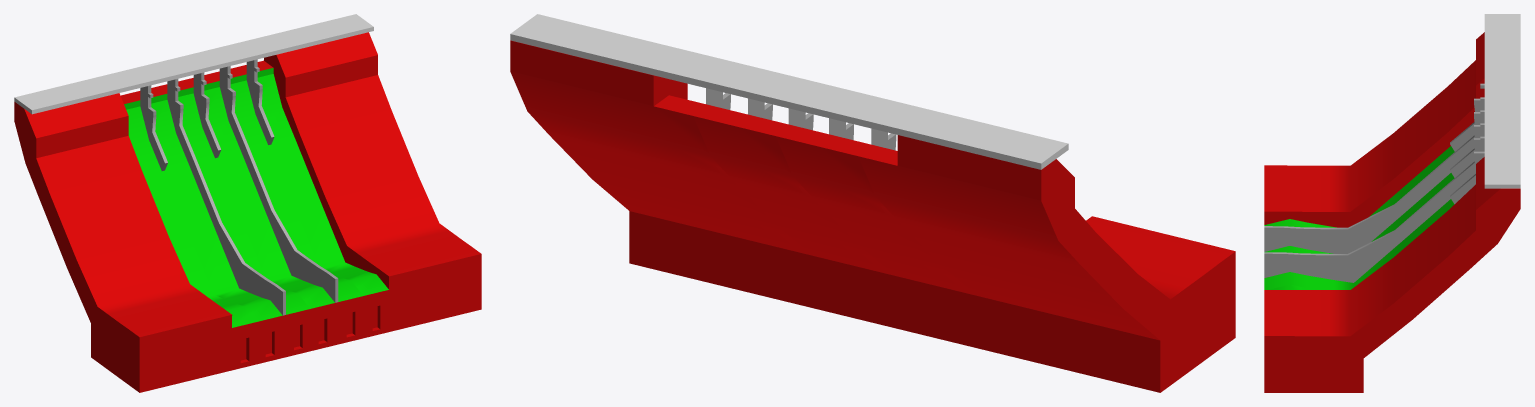
The model's file is HydroExport.fbx.
3 views of the same model, side by side, from view 1: azimuth 30°, elevation 25°; view 2: azimuth 150°, elevation 25°; view 3: azimuth 270°, elevation 25° (orthographic). The views are drawn at different scales.
Parts seen in each view (by area): view 1: pPlane1, pCube1, polySurface5, polySurface2, polySurface6, polySurface4, polySurface7; view 2: pPlane1, pCube1; view 3: pPlane1, pCube1, polySurface5, polySurface2, polySurface4, polySurface6, polySurface7.
Boxes of the visible parts, bbox=[...] form: pPlane1: bbox=[14, 32, 481, 392]; pCube1: bbox=[14, 14, 373, 114]; polySurface5: bbox=[219, 66, 338, 302]; polySurface2: bbox=[167, 79, 285, 315]; polySurface6: bbox=[193, 72, 221, 158]; polySurface4: bbox=[140, 85, 167, 170]; polySurface7: bbox=[246, 59, 274, 144]; pPlane1: bbox=[510, 40, 1235, 392]; pCube1: bbox=[510, 14, 1068, 169]; pPlane1: bbox=[1264, 32, 1520, 392]; pCube1: bbox=[1484, 14, 1520, 188]; polySurface5: bbox=[1264, 123, 1484, 282]; polySurface2: bbox=[1264, 97, 1484, 253]; polySurface4: bbox=[1450, 83, 1484, 151]; polySurface6: bbox=[1450, 110, 1484, 177]; polySurface7: bbox=[1450, 136, 1484, 204].
Size of the model in its own units: 19.45 by 11.08 by 12.34.
